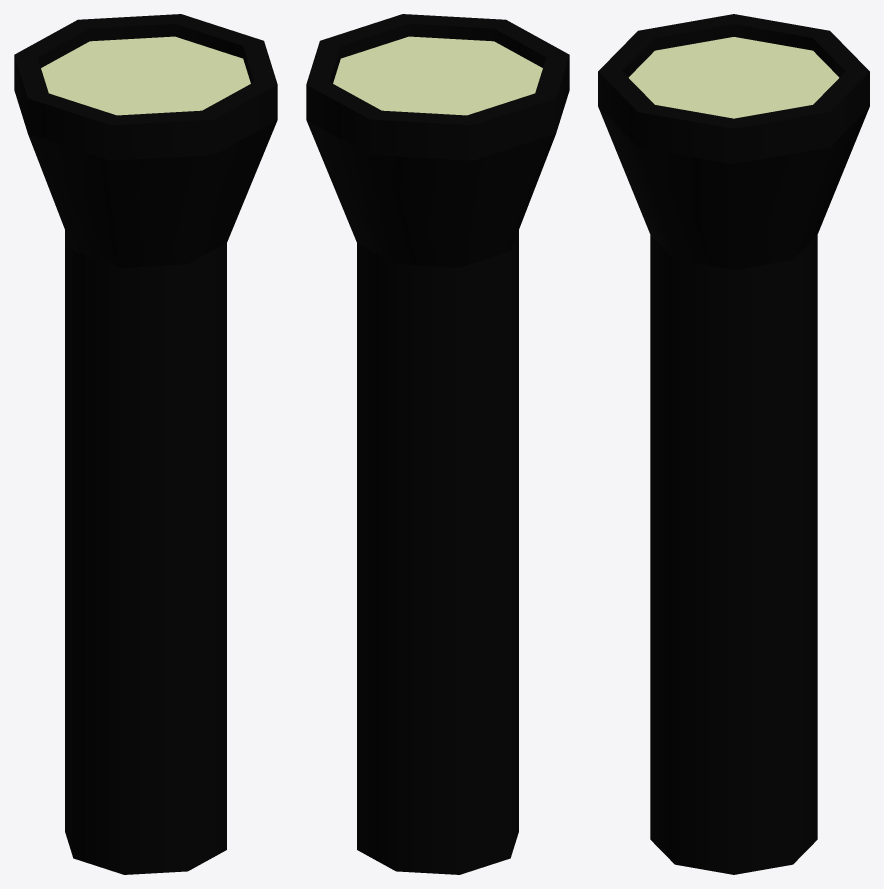
Rendered from Flashlight.fbx.
The picture shows the model from 3 angles, left to right: view 1: azimuth 30°, elevation 25°; view 2: azimuth 150°, elevation 25°; view 3: azimuth 270°, elevation 25°; orthographic projection.
Visible parts, largest first — view 1: Cylinder; view 2: Cylinder; view 3: Cylinder.
Boxes of the visible parts, x1,y1,x2,y2 form: Cylinder: [14, 14, 277, 874]; Cylinder: [306, 14, 569, 874]; Cylinder: [598, 14, 869, 874].
Size of the model in its own units: 43.47 by 136 by 43.47.
